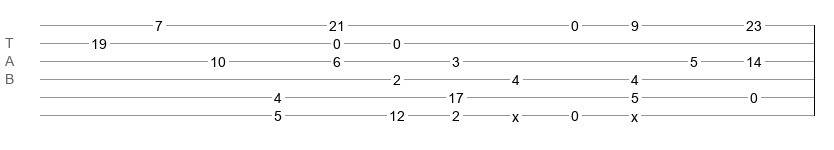0: (333, 36, 341, 46), (393, 36, 401, 46), (571, 18, 579, 28), (571, 108, 579, 118), (750, 90, 758, 100)
10: (210, 54, 226, 64)
12: (389, 108, 405, 118)
14: (746, 54, 762, 64)
17: (448, 90, 464, 100)
19: (91, 36, 107, 46)
2: (393, 72, 401, 82), (452, 108, 460, 118)
21: (329, 18, 345, 28)
23: (746, 18, 762, 28)
3: (452, 54, 460, 64)
4: (274, 90, 282, 100), (512, 72, 520, 82), (631, 72, 639, 82)
5: (274, 108, 282, 118), (631, 90, 639, 100), (690, 54, 698, 64)
6: (333, 54, 341, 64)
7: (155, 18, 163, 28)
9: (631, 18, 639, 28)
x: (512, 109, 519, 117), (631, 109, 638, 117)
